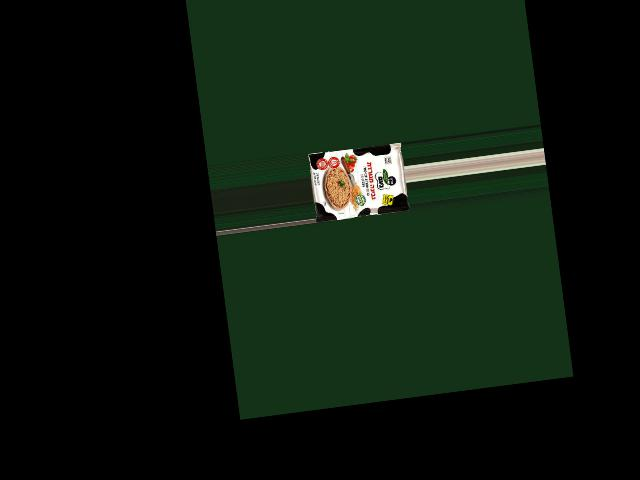cheese: (310, 131, 402, 223)
